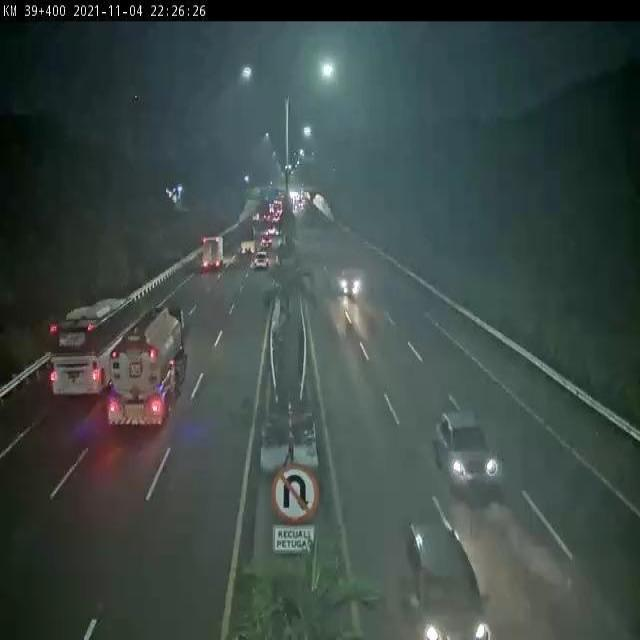Bus: (46, 297, 138, 402)
Car: (399, 523, 491, 640), (432, 410, 498, 488), (253, 252, 270, 268), (260, 234, 274, 249)
Truck: (106, 306, 186, 428), (202, 234, 224, 271), (238, 221, 257, 253)
